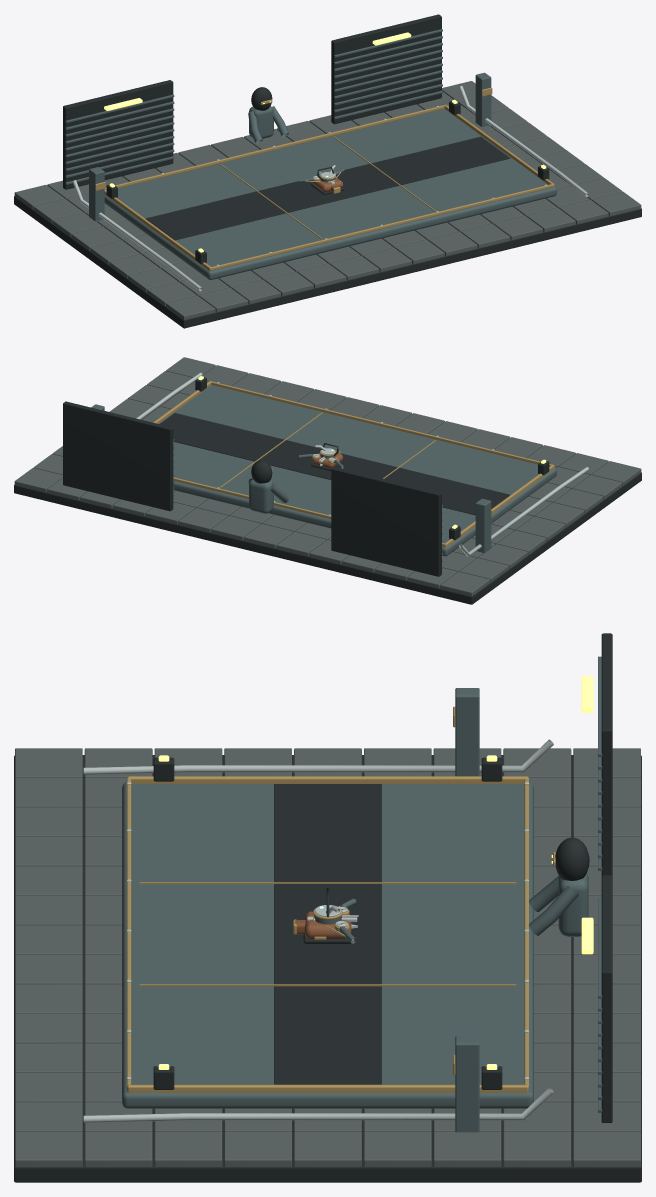
File: equipment-library.glb
The picture shows the model from 3 angles, top to bottom: view 1: azimuth 30°, elevation 25°; view 2: azimuth 150°, elevation 25°; view 3: azimuth 270°, elevation 25°; orthographic projection. The views are drawn at different scales.
Parts seen in each view (by area): view 1: Battle platform, Central inlay, Checkpoint shutter.001, Checkpoint shutter, Foundation, Brass frame, Brass frame.001, Checkpoint bollard.001, Floor tile, Checkpoint bollard, Floor tile.081, Floor tile.117 (+37 smaller); view 2: Battle platform, Checkpoint shutter.001, Checkpoint shutter, Central inlay, Foundation, Brass frame, Checkpoint bollard, Floor tile.008, Guard torso, Floor tile.053, Floor tile.062, Floor tile.071 (+50 smaller); view 3: Battle platform, Central inlay, Foundation, Exposed conduit.001, Exposed conduit, Side frame.001, Side frame, Checkpoint shutter.001, Checkpoint shutter, Floor tile.119, Floor tile.118, Floor tile.124 (+74 smaller).
Boxes of the visible parts, x1,y1,x2,y2 form: Battle platform: [104, 108, 556, 279]; Central inlay: [145, 136, 510, 240]; Checkpoint shutter.001: [331, 14, 441, 124]; Checkpoint shutter: [63, 80, 173, 189]; Foundation: [14, 196, 641, 328]; Brass frame: [210, 184, 554, 270]; Brass frame.001: [105, 105, 444, 189]; Checkpoint bollard.001: [475, 72, 491, 126]; Floor tile: [166, 295, 215, 319]; Checkpoint bollard: [89, 167, 104, 221]; Floor tile.081: [460, 223, 510, 247]; Floor tile.117: [591, 191, 641, 216]; Battle platform: [159, 385, 556, 556]; Checkpoint shutter.001: [63, 401, 173, 511]; Checkpoint shutter: [331, 467, 441, 576]; Central inlay: [159, 413, 509, 515]; Foundation: [14, 472, 641, 604]; Brass frame: [211, 381, 551, 466]; Checkpoint bollard: [475, 498, 491, 553]; Floor tile.008: [440, 571, 489, 596]; Guard torso: [249, 479, 273, 513]; Floor tile.053: [276, 532, 326, 556]; Floor tile.062: [244, 524, 293, 548]; Floor tile.071: [211, 516, 260, 540]; Battle platform: [122, 782, 533, 1108]; Central inlay: [274, 784, 381, 1084]; Foundation: [14, 755, 641, 1182]; Exposed conduit.001: [83, 1087, 553, 1122]; Exposed conduit: [83, 739, 553, 774]; Side frame.001: [127, 1084, 528, 1092]; Side frame: [127, 776, 528, 783]; Checkpoint shutter.001: [601, 875, 612, 1122]; Checkpoint shutter: [601, 633, 612, 875]; Floor tile.119: [154, 1131, 222, 1166]; Floor tile.118: [84, 1131, 152, 1166]; Floor tile.124: [503, 1131, 571, 1166].
Bounding box in the file's own units: 14 × 2.75 × 9.
